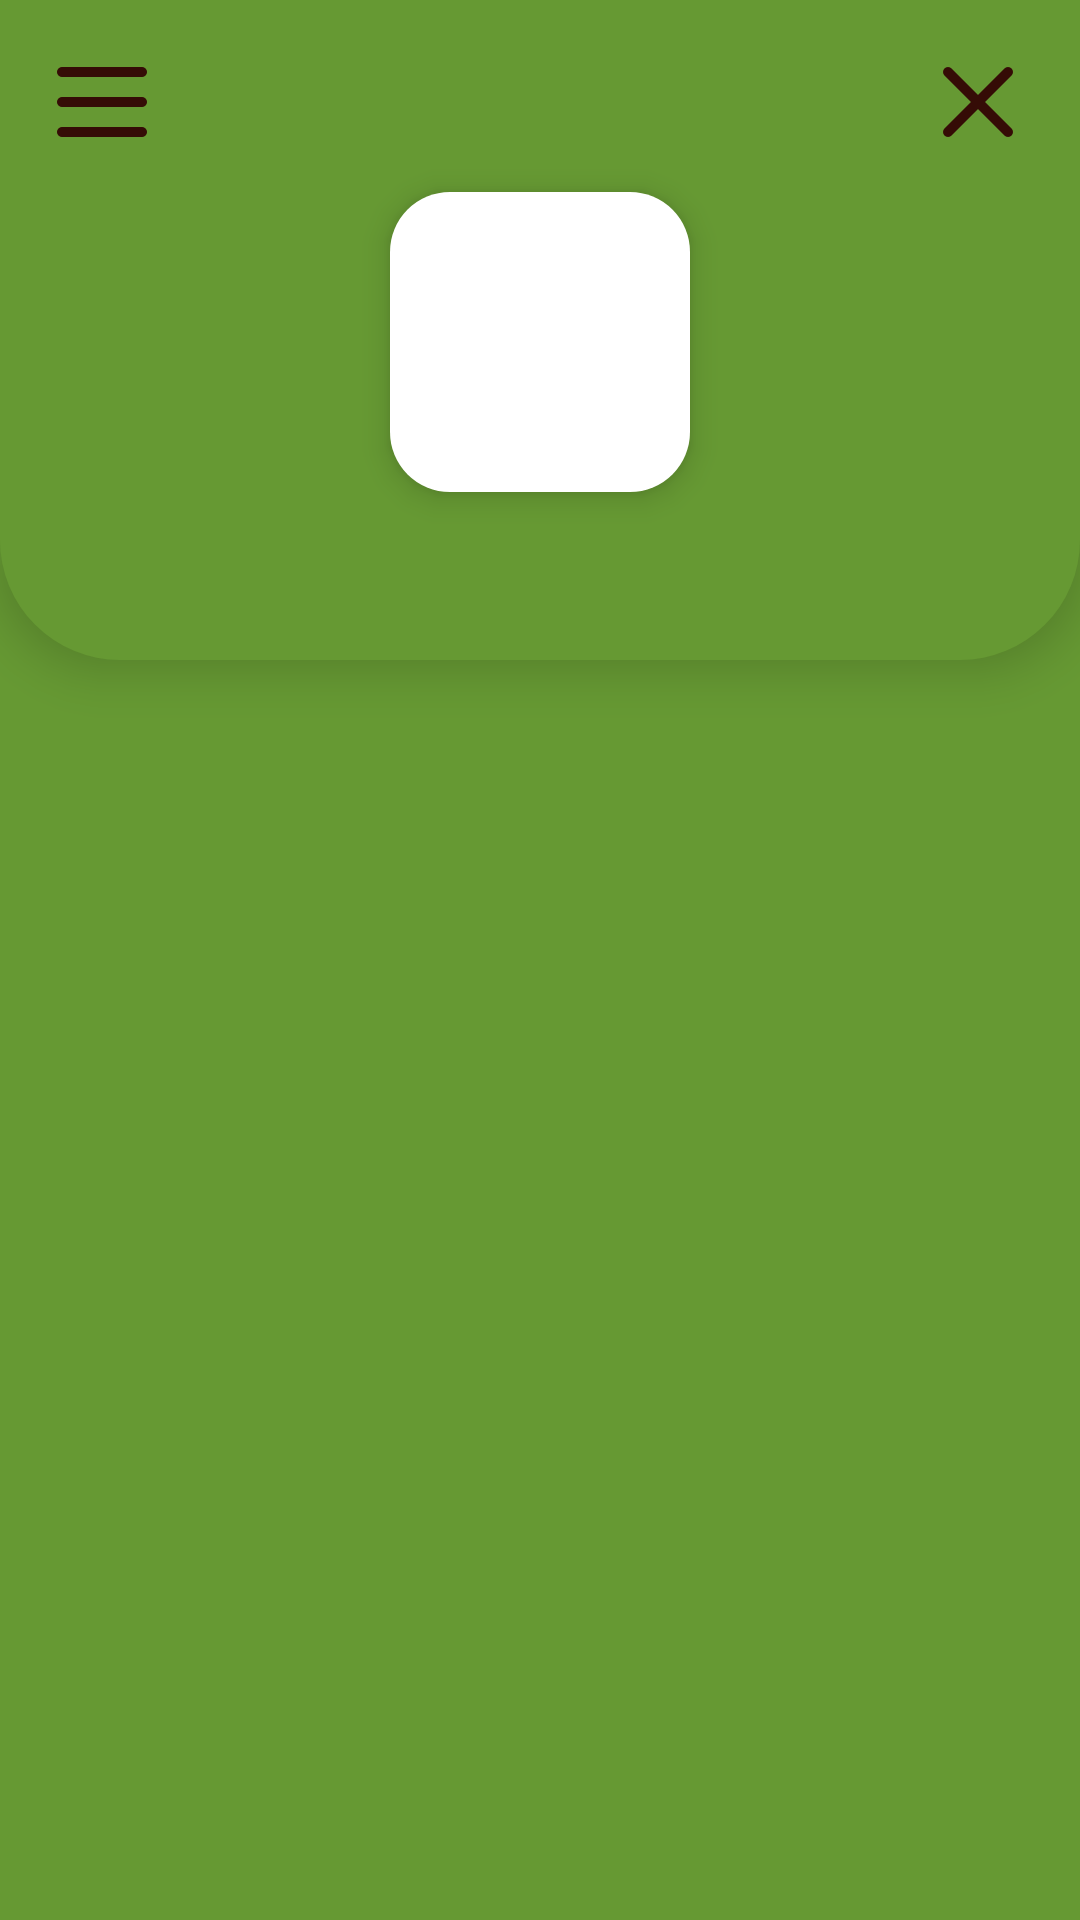

Icons on this 1080x1920 Android screen, each with its box as (x1, y1, x2, y2):
close: (943, 67, 1013, 137)
menu: (57, 67, 147, 137)
